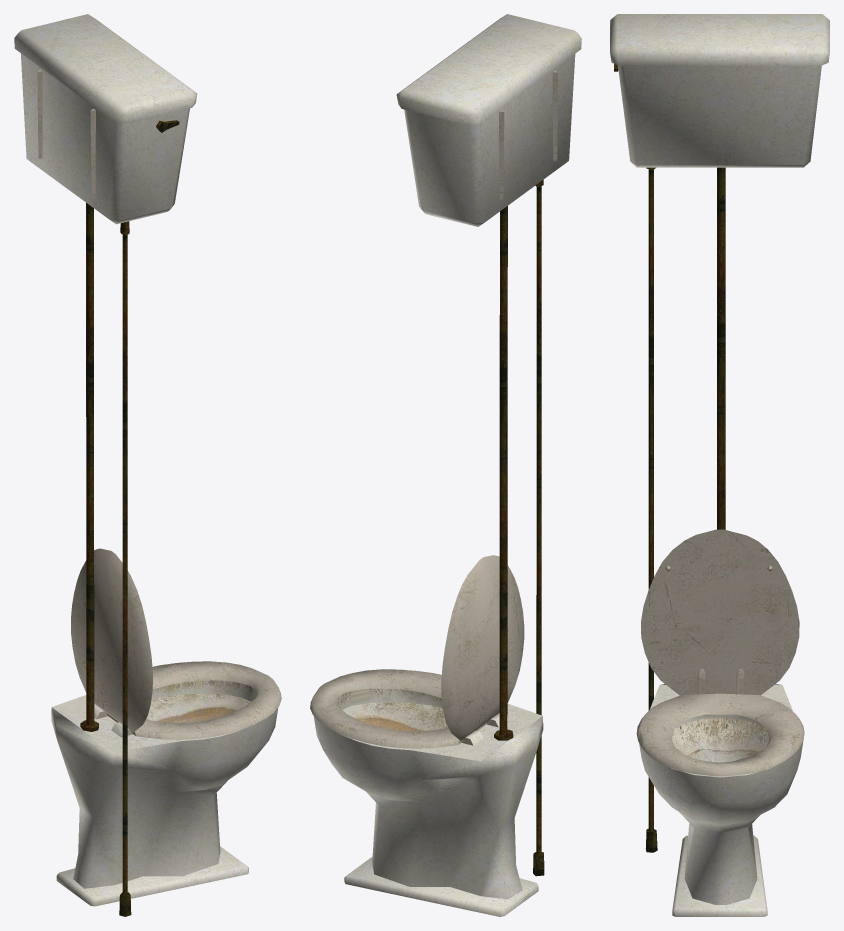
File: furnituretoilet001a.glb
The picture shows the model from 3 angles, left to right: view 1: azimuth 30°, elevation 25°; view 2: azimuth 150°, elevation 25°; view 3: azimuth 270°, elevation 25°; orthographic projection.
Visible parts, largest first — view 1: 0_FurnitureToletSink001a; view 2: 0_FurnitureToletSink001a; view 3: 0_FurnitureToletSink001a.
Boxes of the visible parts, x1,y1,x2,y2 form: 0_FurnitureToletSink001a: [14, 14, 281, 916]; 0_FurnitureToletSink001a: [310, 14, 581, 916]; 0_FurnitureToletSink001a: [610, 14, 829, 916].
Bounding box in the file's own units: 0.628 × 2.38 × 0.5719.
1 material, 1 textured.
